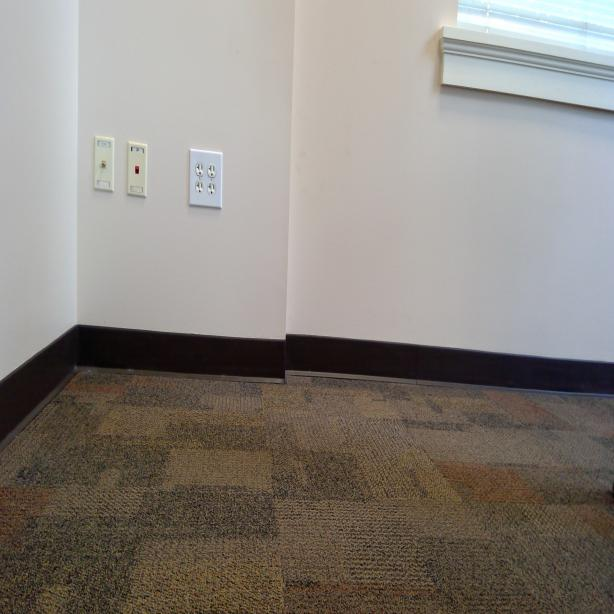typeb: (195, 159, 204, 177), (195, 180, 204, 195), (207, 183, 216, 196), (208, 165, 215, 178)
